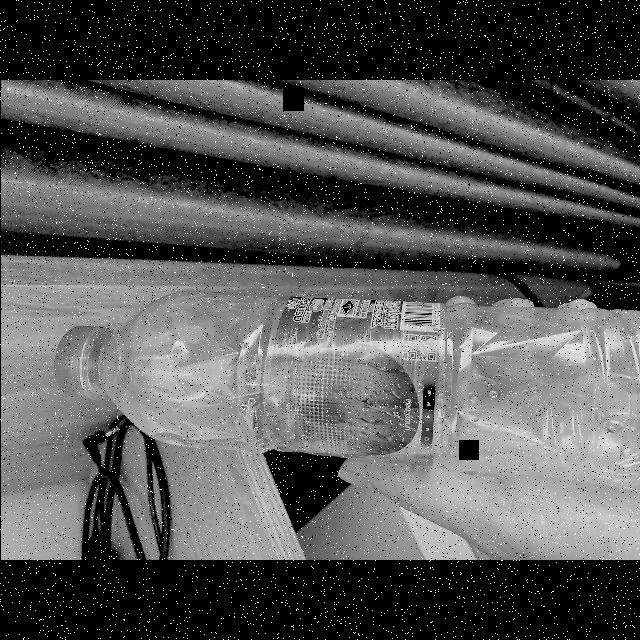plastic_bottle: (48, 282, 640, 468)
